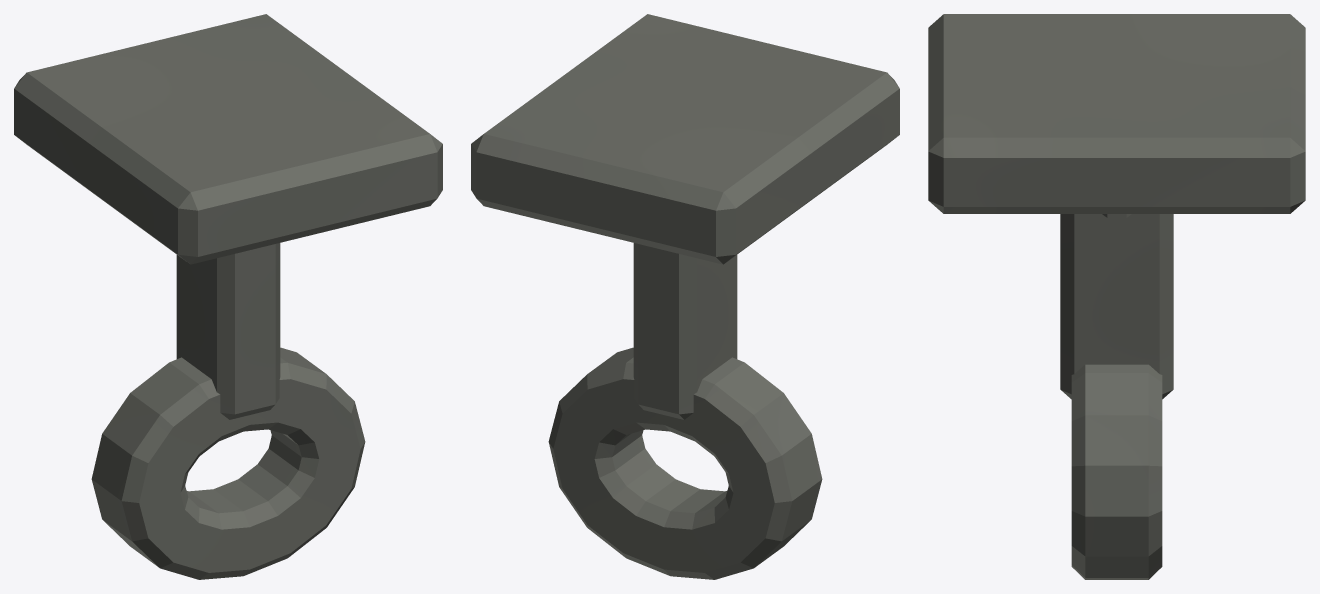
Rendered from WarrensC_CCS32_OverheadChainHanger_Mars_SM.fbx.
3 views of the same model, side by side, from view 1: azimuth 30°, elevation 25°; view 2: azimuth 150°, elevation 25°; view 3: azimuth 270°, elevation 25° (orthographic). The views are drawn at different scales.
Visible parts, largest first — view 1: WarrensC_CCS32_OverheadChainHanger_Mars_SM.001; view 2: WarrensC_CCS32_OverheadChainHanger_Mars_SM.001; view 3: WarrensC_CCS32_OverheadChainHanger_Mars_SM.001.
Part boxes in pixels (x1,y1,x2,y2): WarrensC_CCS32_OverheadChainHanger_Mars_SM.001: [14, 14, 442, 579]; WarrensC_CCS32_OverheadChainHanger_Mars_SM.001: [471, 14, 899, 579]; WarrensC_CCS32_OverheadChainHanger_Mars_SM.001: [928, 14, 1305, 579].
Bounding box in the file's own units: 30 × 35 × 50.
